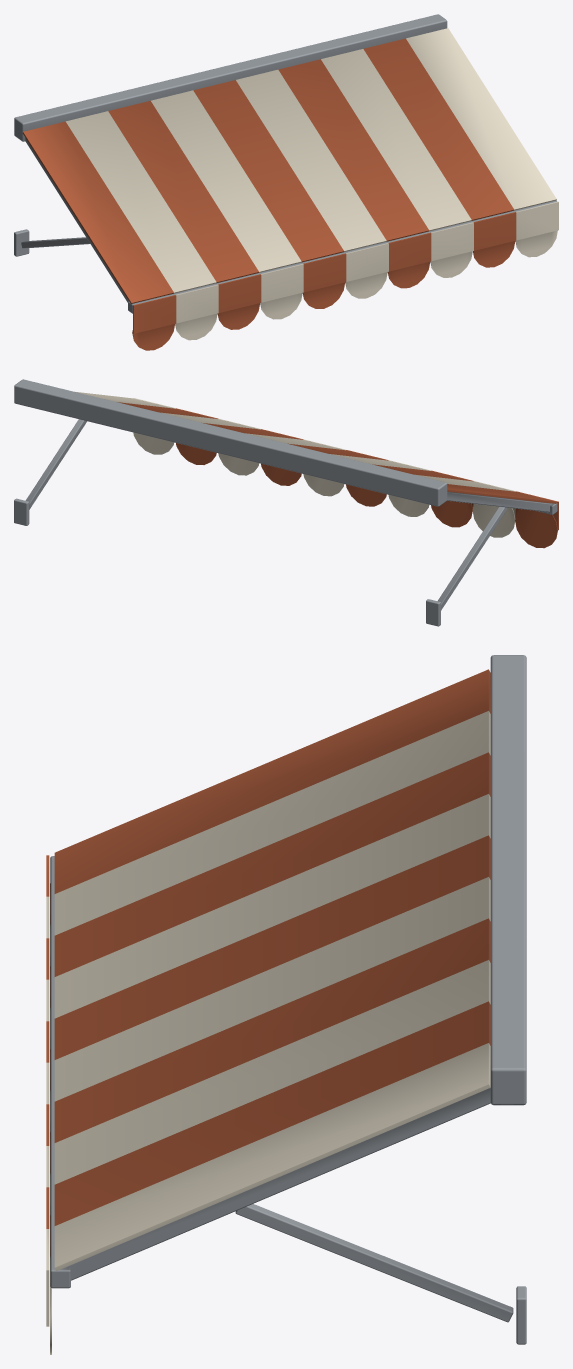
File: awning.glb
The picture shows the model from 3 angles, top to bottom: view 1: azimuth 30°, elevation 25°; view 2: azimuth 150°, elevation 25°; view 3: azimuth 270°, elevation 25°; orthographic projection. The views are drawn at different scales.
Parts seen in each view (by area): view 1: body; view 2: body; view 3: body.
Boxes of the visible parts, x1,y1,x2,y2 form: body: [14, 14, 558, 350]; body: [14, 379, 558, 626]; body: [46, 655, 526, 1354].
Size of the model in its own units: 1.9 by 0.6448 by 0.9295.
